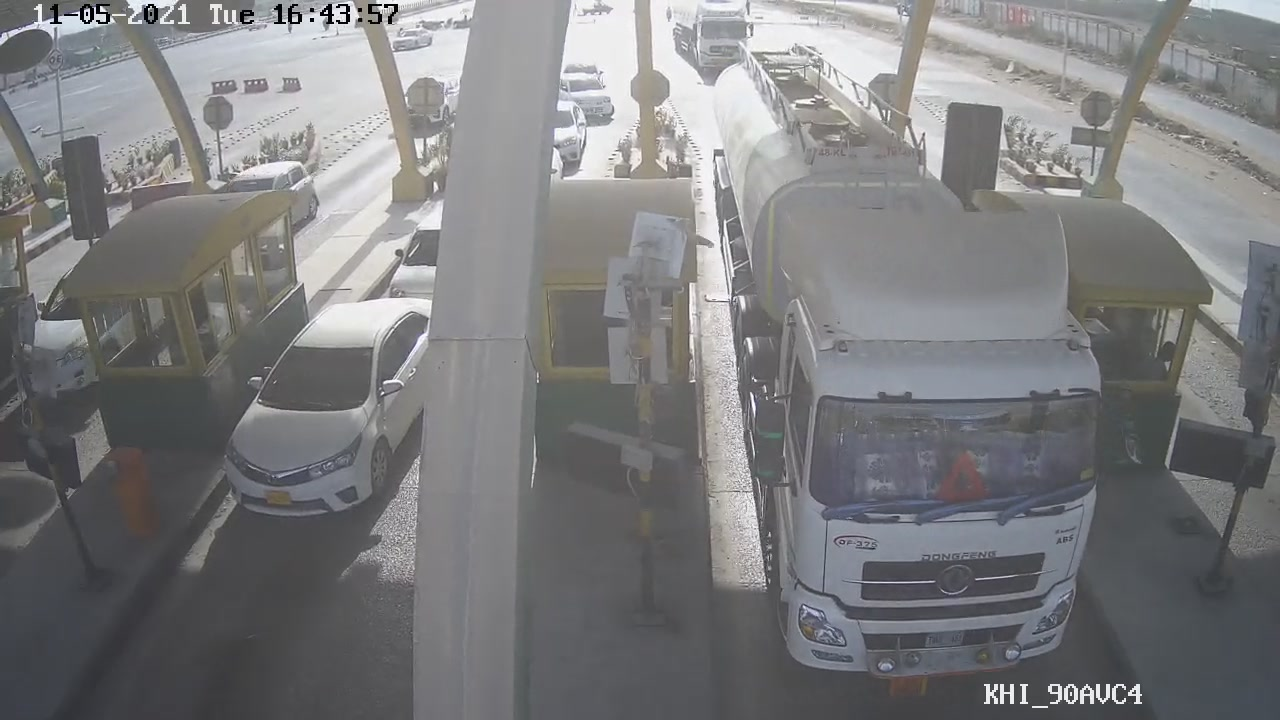F6: (704, 45, 1124, 710)
